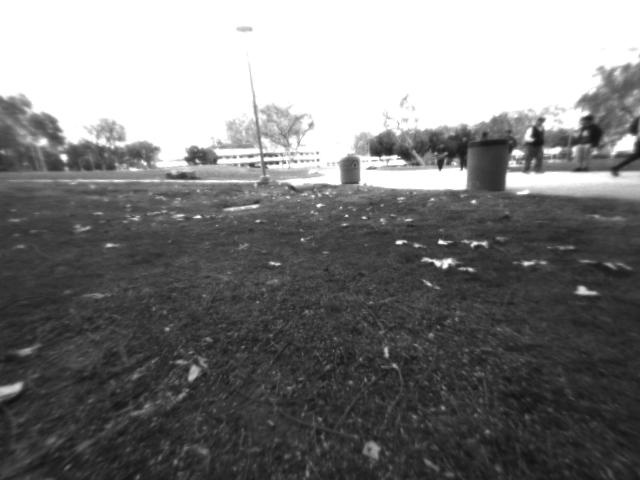trashcan: (461, 133, 517, 201), (335, 147, 367, 190)
